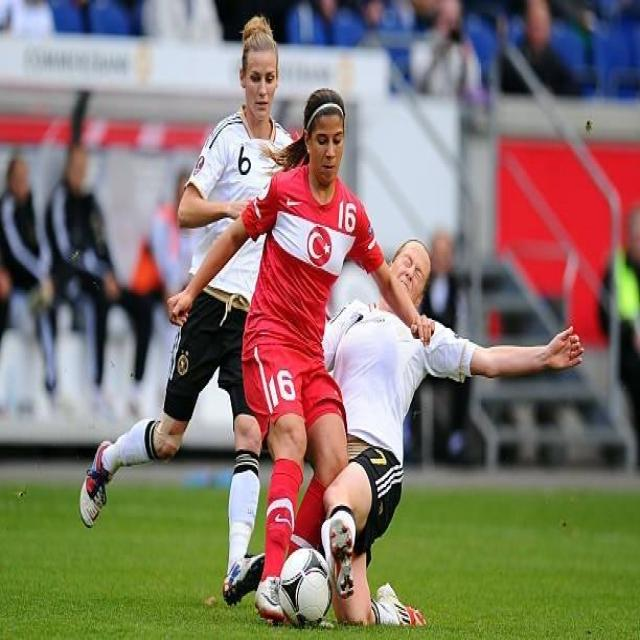ball: (275, 546, 332, 630)
player: (80, 30, 312, 594), (322, 230, 582, 631), (215, 84, 407, 602)
